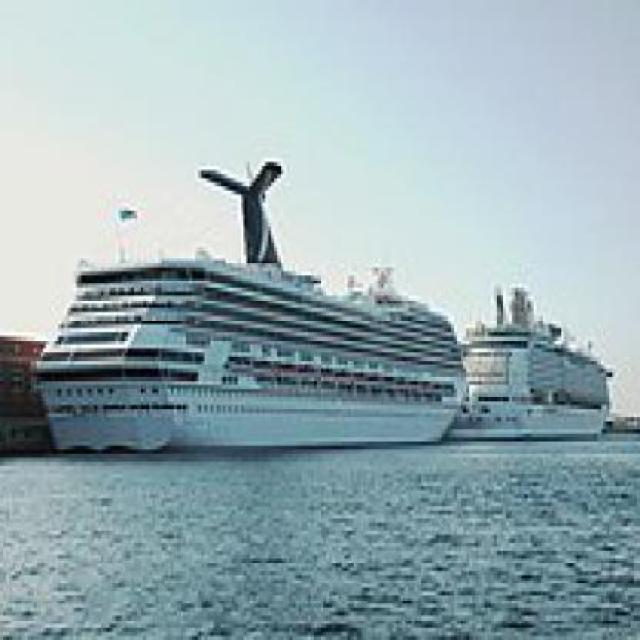cruise: (32, 150, 483, 467), (439, 269, 635, 458)
